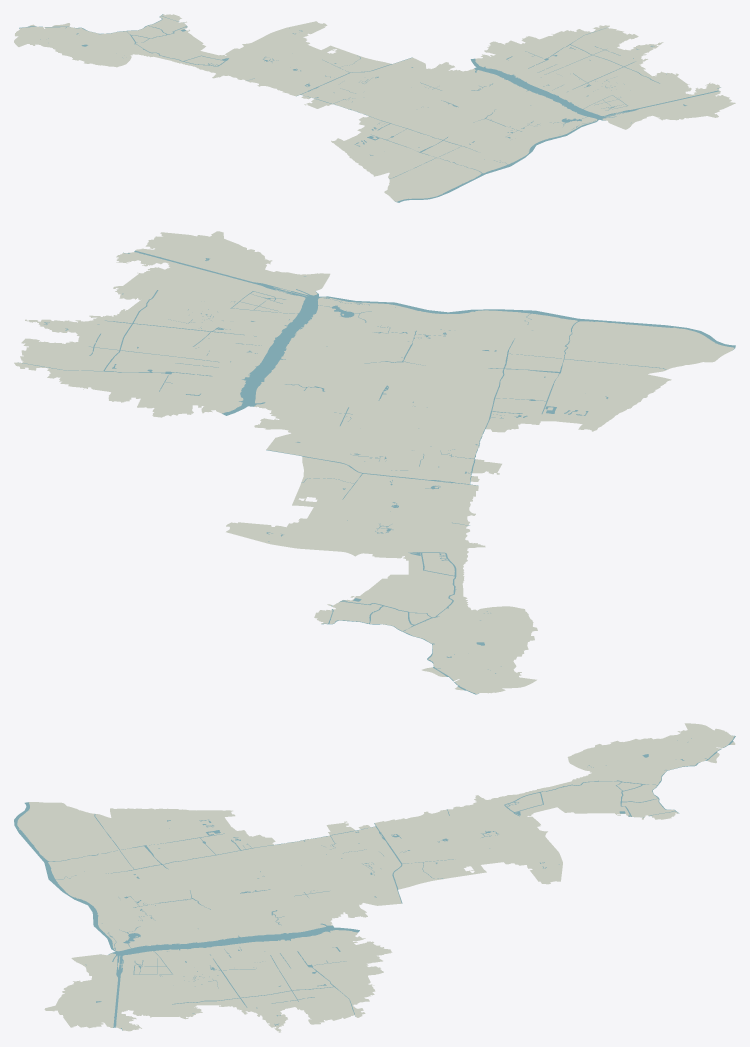
The picture shows the model from 3 angles, top to bottom: view 1: azimuth 30°, elevation 25°; view 2: azimuth 150°, elevation 25°; view 3: azimuth 270°, elevation 25°; orthographic projection. The views are drawn at different scales.
Parts seen in each view (by area): view 1: ground-proxy, mapped-water; view 2: ground-proxy, mapped-water; view 3: ground-proxy, mapped-water.
Part boxes in pixels (x1,y1,x2,y2): ground-proxy: (14,14,735,201); mapped-water: (19,14,720,202); ground-proxy: (14,231,734,693); mapped-water: (18,250,735,694); ground-proxy: (17,723,735,1032); mapped-water: (14,735,735,1030).
Size of the model in its own units: 31980 by 0 by 31539.
